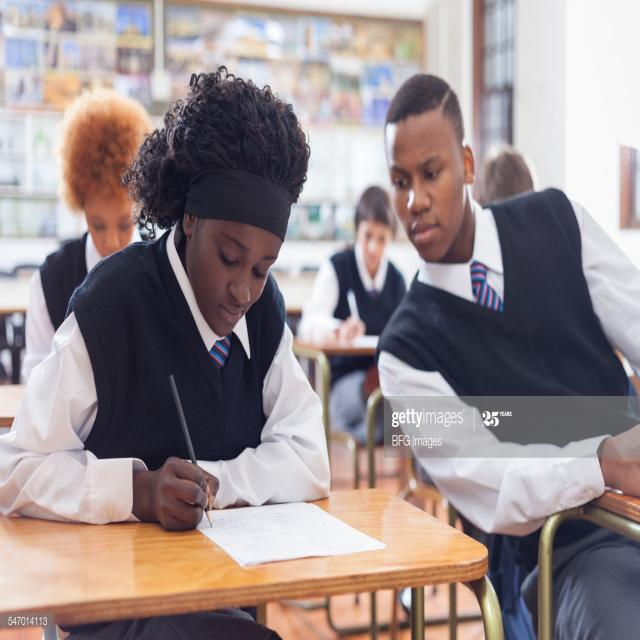cheating: (372, 56, 640, 397)
good: (0, 62, 389, 577)
